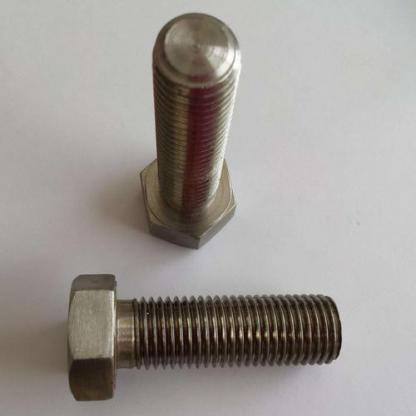FOD: (64, 269, 345, 405), (138, 10, 246, 252)
